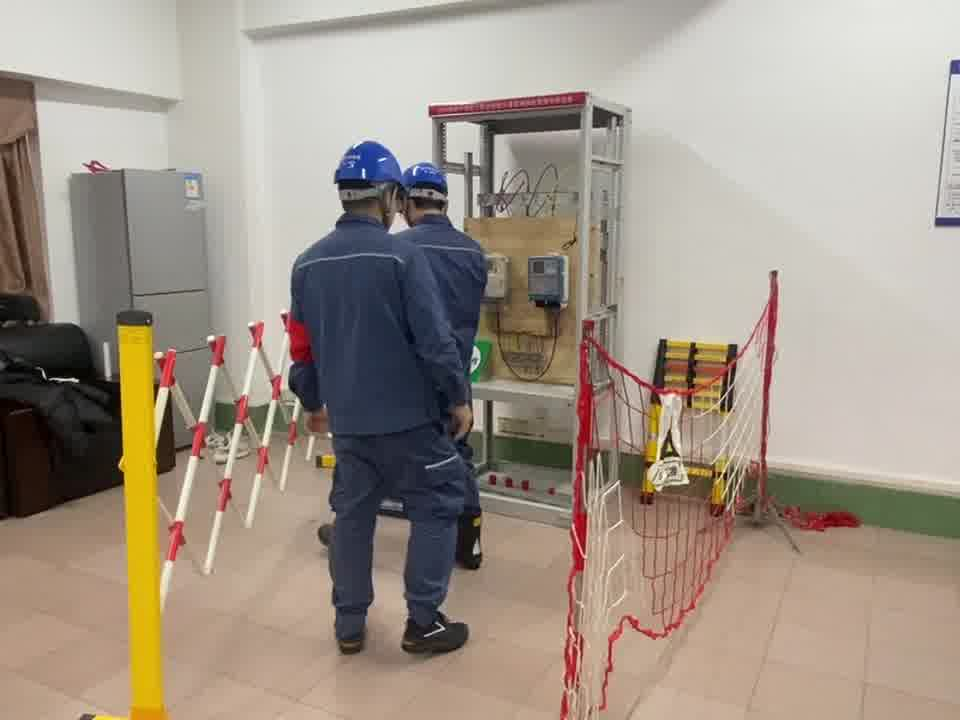halt: (334, 142, 409, 224), (403, 164, 452, 224)
inear: (376, 187, 401, 225)
